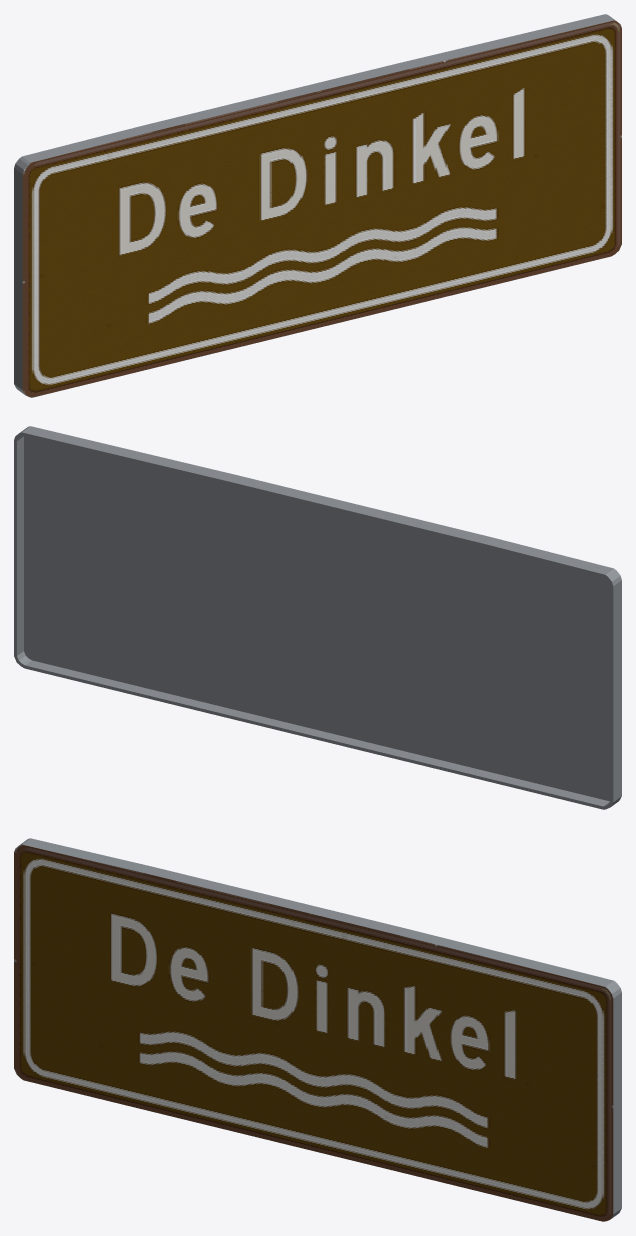
3 views of the same model, one above another, from view 1: azimuth 30°, elevation 25°; view 2: azimuth 150°, elevation 25°; view 3: azimuth 330°, elevation 25° (orthographic).
Visible parts, largest first — view 1: cat_7187c7b6022bd385; view 2: cat_7187c7b6022bd385; view 3: cat_7187c7b6022bd385.
Boxes of the visible parts, box(x1,y1,x2,y2) form: cat_7187c7b6022bd385: box(14, 14, 621, 397); cat_7187c7b6022bd385: box(14, 426, 621, 809); cat_7187c7b6022bd385: box(14, 838, 621, 1221).
Size of the model in its own units: 0.6 by 0.015 by 0.2265.
2 materials, 1 textured.
